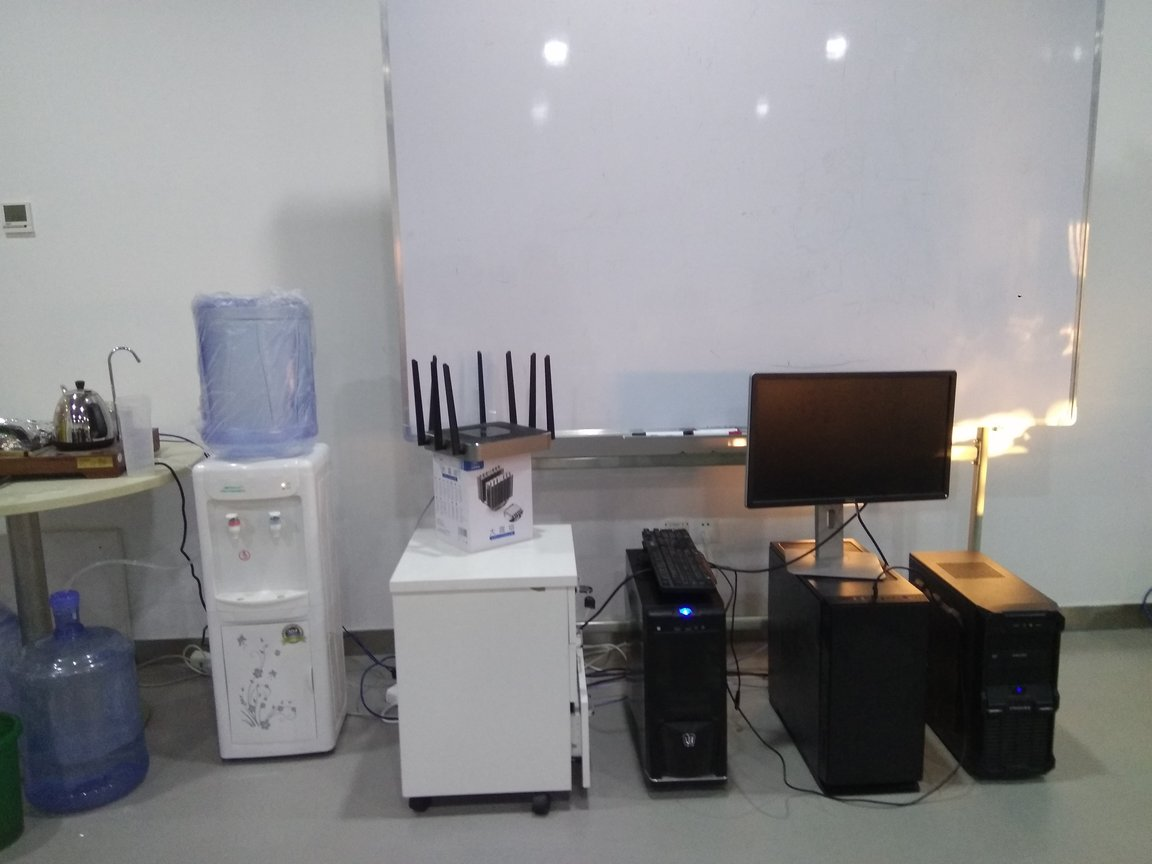computer: (766, 536, 936, 805), (898, 546, 1068, 784), (625, 542, 729, 804)
drawer chest: (385, 524, 602, 819)
monitor: (752, 364, 965, 581)
scuttlebutt: (12, 597, 164, 805), (181, 276, 337, 457)
water dispenser: (185, 453, 348, 757)
